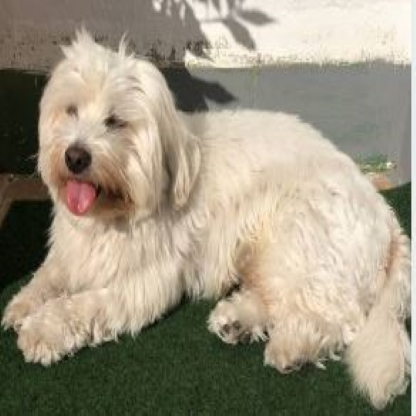maltese: (4, 28, 412, 402)
